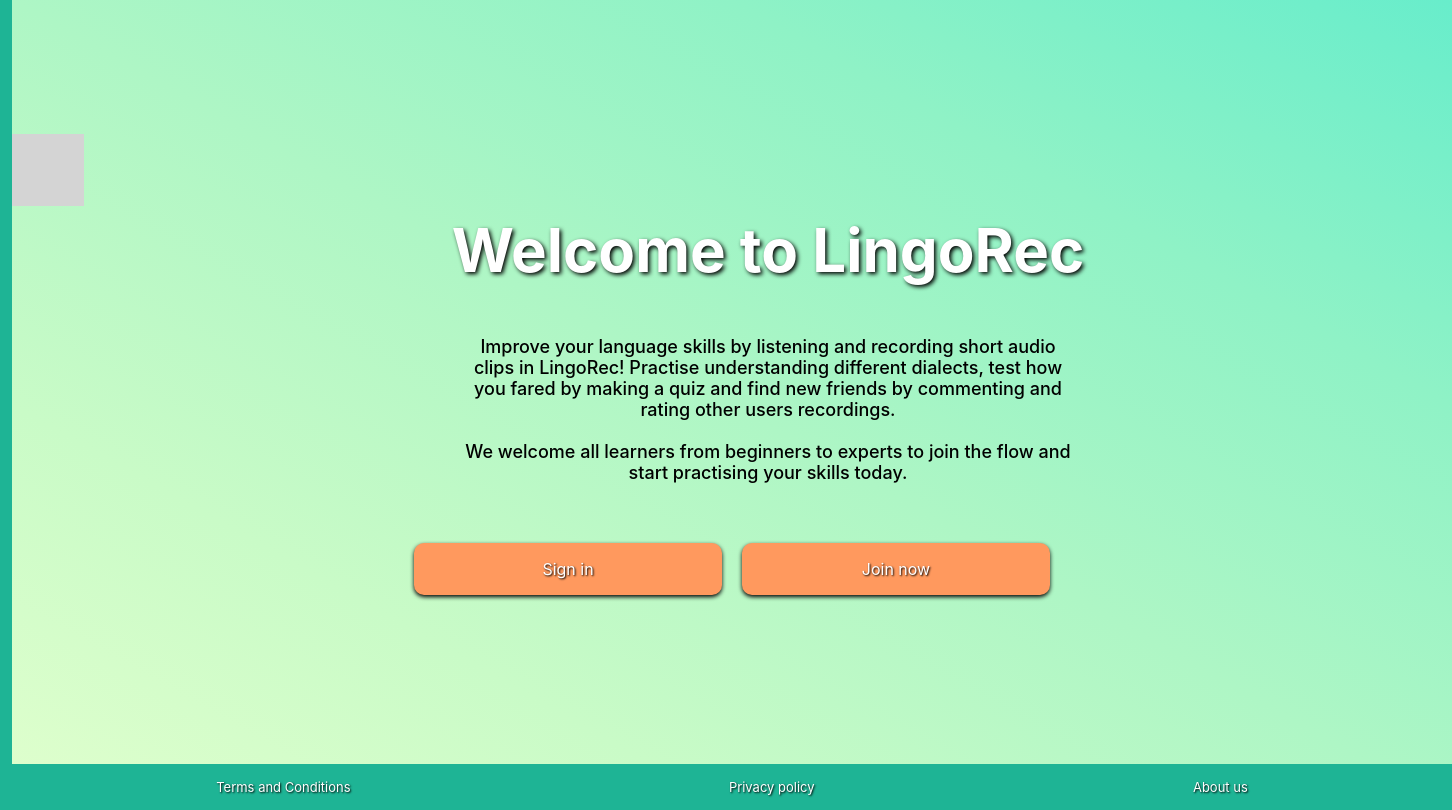
Test: renders signin component after clicking signin button
What coordinates should you click on to do the following:
click the link "Sign in"
I would click on:
 (568, 569)
Its box is [414, 543, 722, 595].
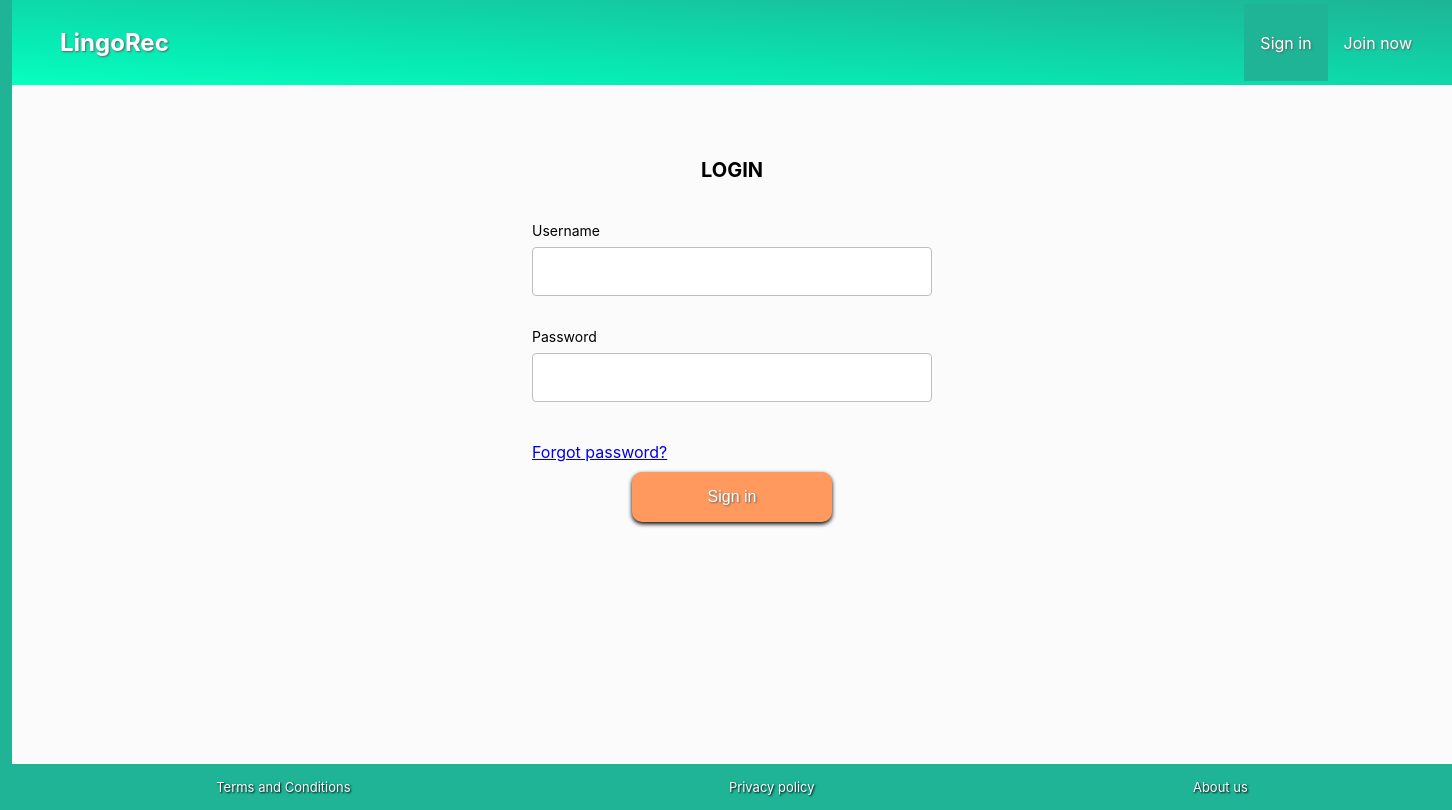
expect the navigation bar with test id "signincontainer" is shown: met
